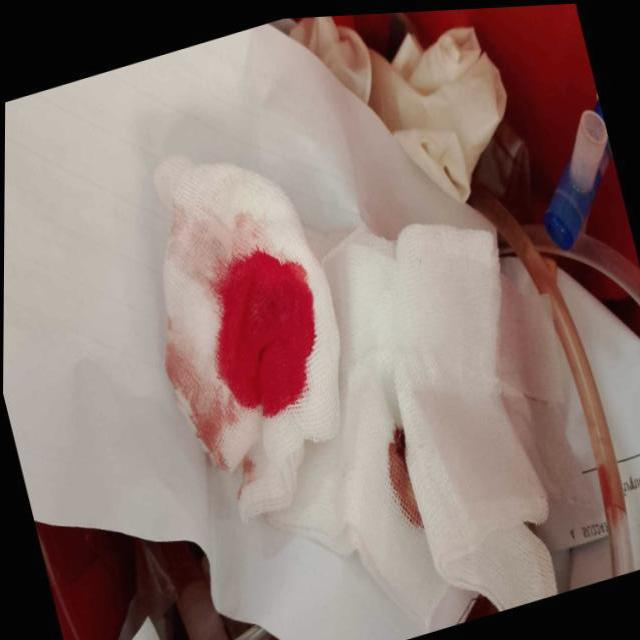General: (4, 11, 639, 638)
Infectious: (153, 157, 343, 524)
Sharps: (542, 104, 612, 253)
